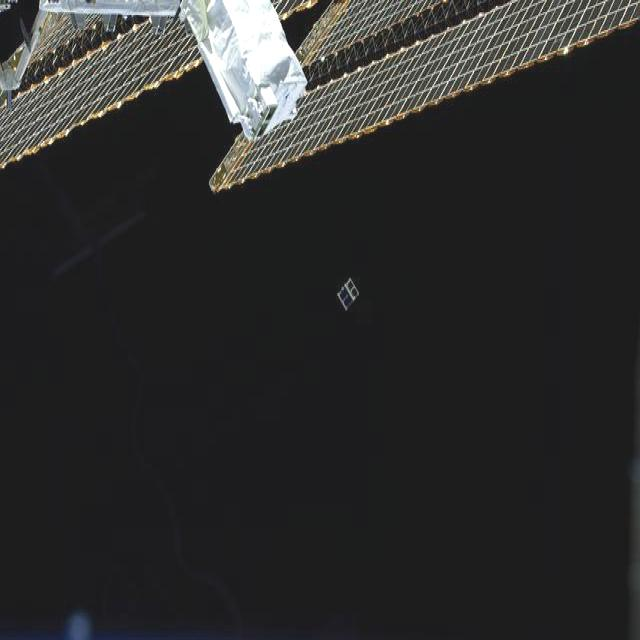satellite: (0, 0, 640, 191), (338, 278, 359, 309)
